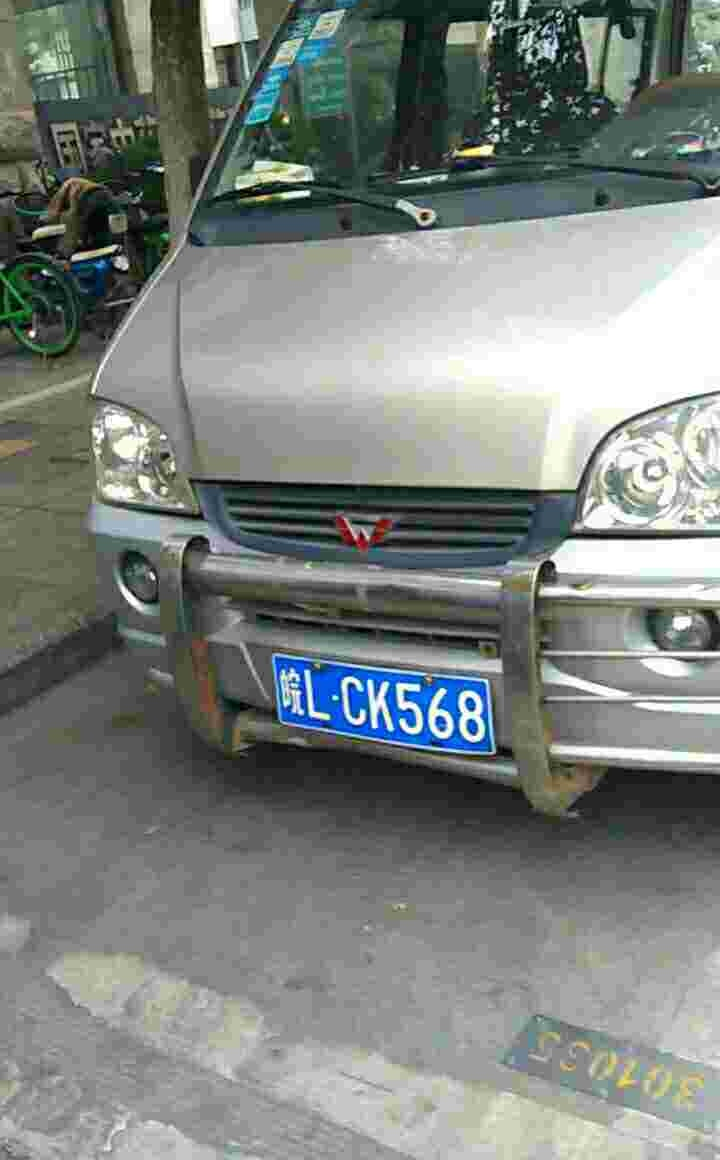license_plate: (273, 657, 501, 765)
